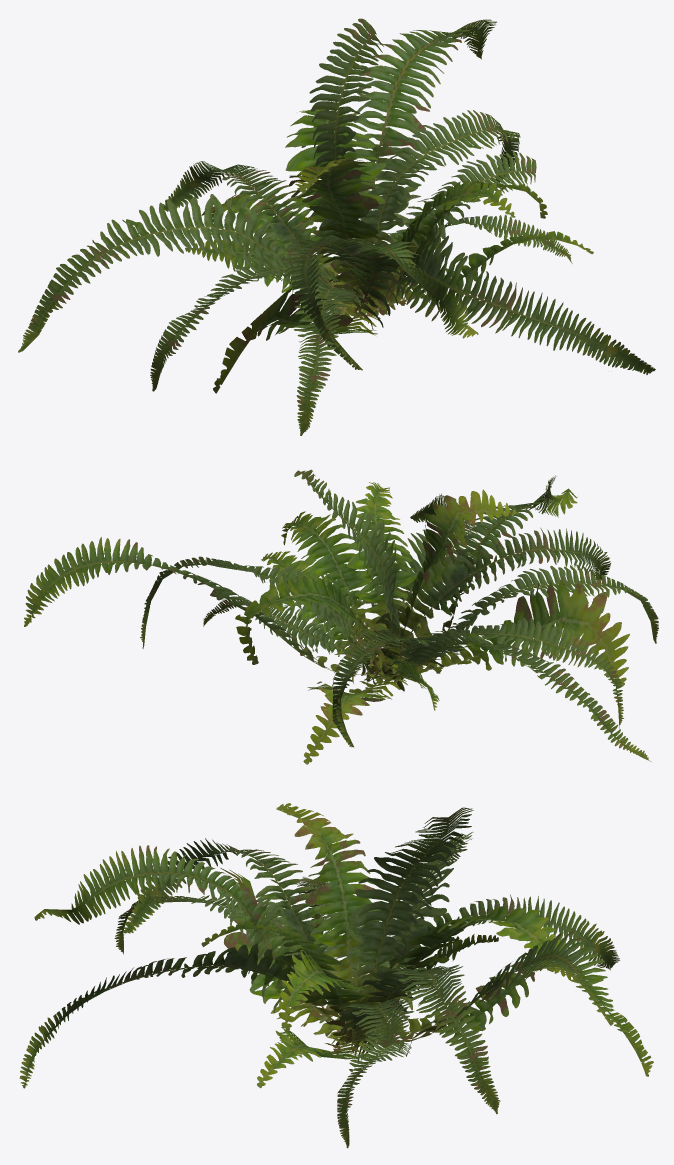
3 views of the same model, one above another, from view 1: azimuth 30°, elevation 25°; view 2: azimuth 150°, elevation 25°; view 3: azimuth 270°, elevation 25° (orthographic). The views are drawn at different scales.
Parts seen in each view (by area): view 1: fern_02_b; view 2: fern_02_b; view 3: fern_02_b.
Boxes of the visible parts, x1,y1,x2,y2 form: fern_02_b: (18,18,655,435); fern_02_b: (24,469,658,764); fern_02_b: (19,803,653,1148).
Bounding box in the file's own units: 0.9897 × 0.4277 × 0.8937.
Materials: 1 (1 with a texture image).
